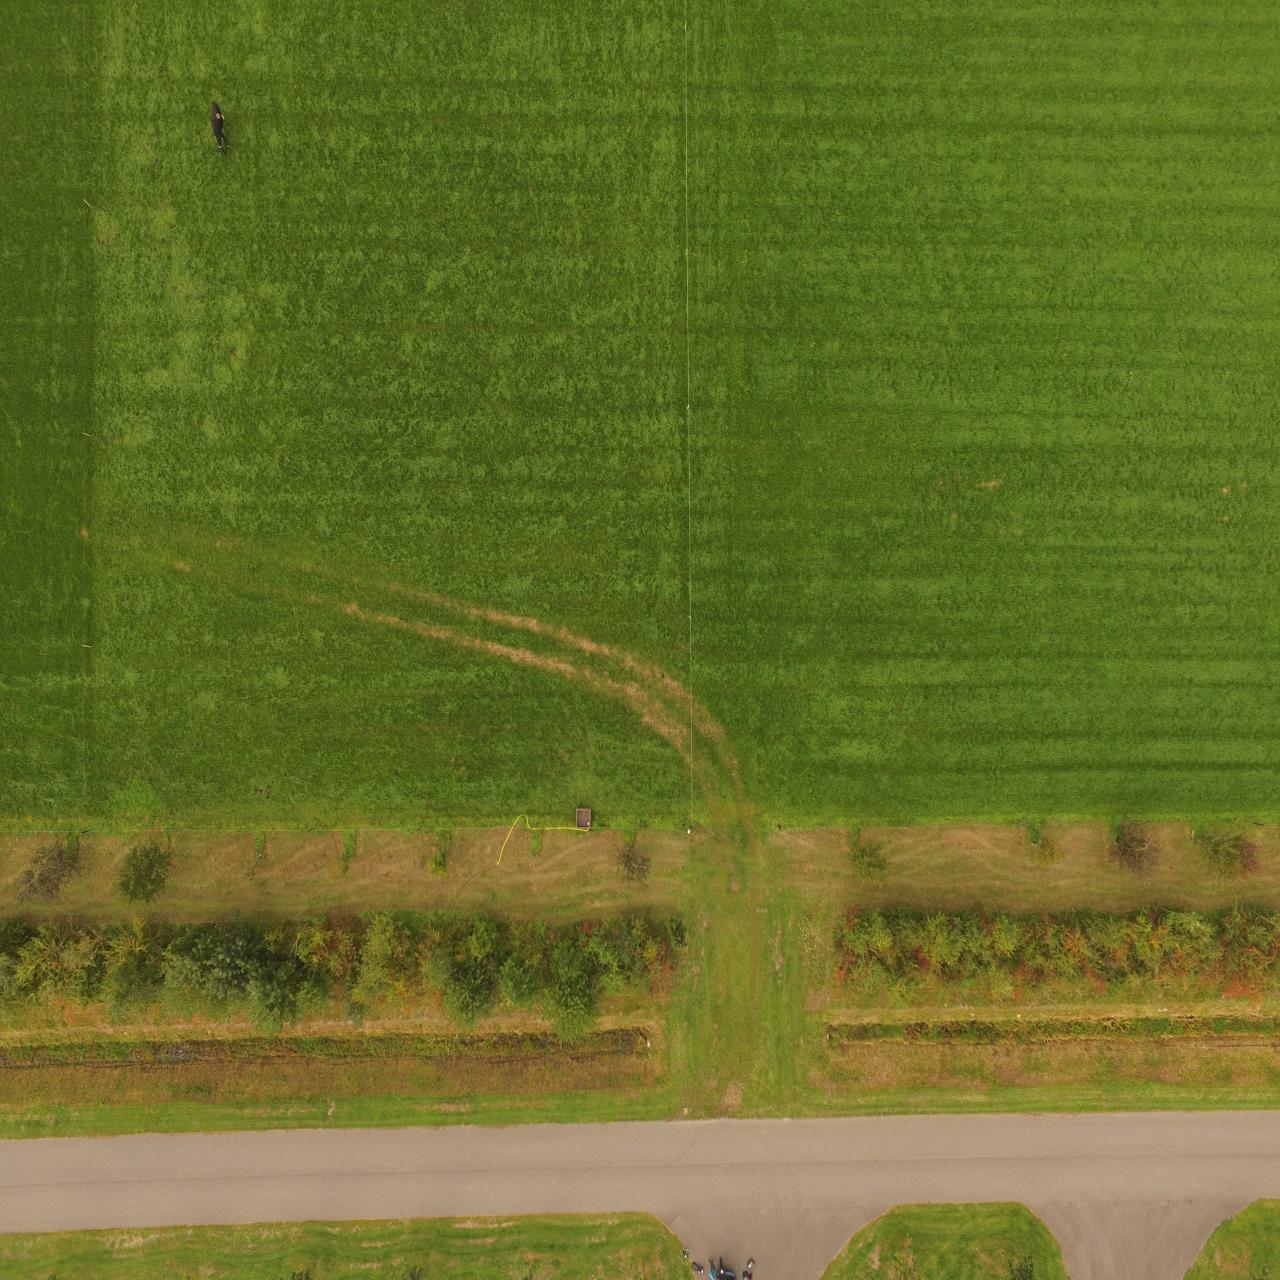cow: (210, 101, 230, 157)
